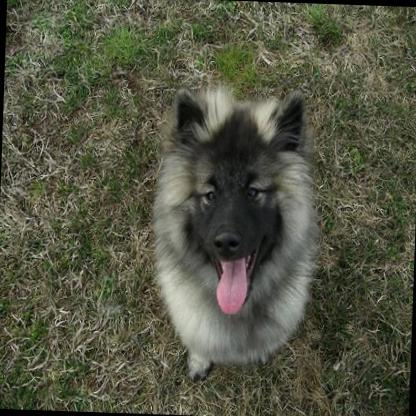keeshond: (142, 71, 328, 382)
